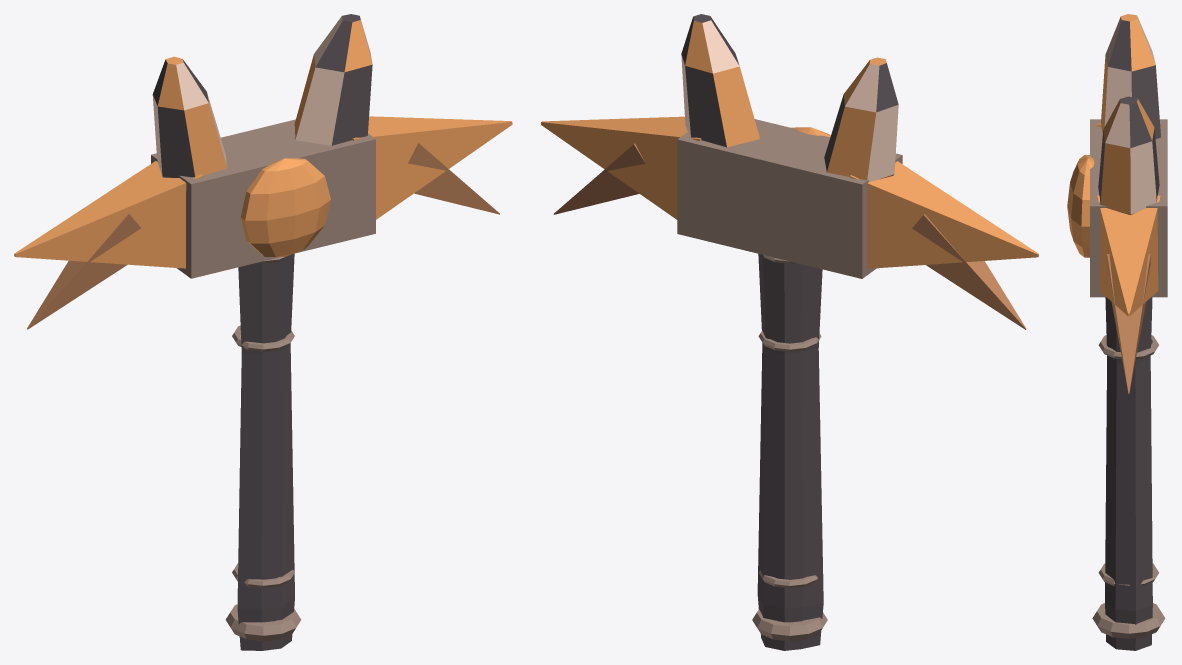
File: BH_PICK_P27_Picareta_Dragao_Mineral_V01.glb
The picture shows the model from 3 angles, left to right: view 1: azimuth 30°, elevation 25°; view 2: azimuth 150°, elevation 25°; view 3: azimuth 270°, elevation 25°; orthographic projection. The views are drawn at different scales.
Parts seen in each view (by area): view 1: Handle | shaped shaft.001, Head | main crossbar.001, Head | mining tooth L.001, Head | dragon horn 1.001, Head | mining tooth R.001, Core | socket gem.001, Head | dragon horn -1.001, Head | hooked spur -1.001, Head | hooked spur 1.001, Handle | pommel.001; view 2: Handle | shaped shaft.001, Head | main crossbar.001, Head | mining tooth L.001, Head | dragon horn 1.001, Head | mining tooth R.001, Head | dragon horn -1.001, Head | hooked spur -1.001, Head | hooked spur 1.001, Handle | pommel.001; view 3: Handle | shaped shaft.001, Head | dragon horn 1.001, Head | mining tooth R.001, Head | dragon horn -1.001, Head | main crossbar.001, Core | socket gem.001, Head | hooked spur 1.001, Handle | pommel.001, Handle | binding 3.001, Handle | binding 1.001.
Part boxes in pixels (x1,y1,x2,y2): Handle | shaped shaft.001: (237,253,294,650); Head | main crossbar.001: (151,119,375,278); Head | mining tooth L.001: (14,161,203,268); Head | dragon horn 1.001: (294,14,372,145); Head | mining tooth R.001: (352,116,512,219); Core | socket gem.001: (240,158,330,256); Head | dragon horn -1.001: (152,56,227,177); Head | hooked spur -1.001: (27,214,140,329); Head | hooked spur 1.001: (408,143,499,214); Handle | pommel.001: (225,604,301,641); Handle | shaped shaft.001: (757,254,823,650); Head | main crossbar.001: (677,119,902,278); Head | mining tooth L.001: (850,161,1038,268); Head | dragon horn 1.001: (681,14,759,147); Head | mining tooth R.001: (541,116,701,219); Head | dragon horn -1.001: (824,57,898,181); Head | hooked spur -1.001: (912,214,1026,329); Head | hooked spur 1.001: (553,143,645,214); Handle | pommel.001: (752,609,827,641); Handle | shaped shaft.001: (1105,297,1152,650); Head | dragon horn 1.001: (1098,96,1159,215); Head | mining tooth R.001: (1097,195,1160,316); Head | dragon horn -1.001: (1101,14,1160,138); Head | main crossbar.001: (1090,119,1167,297); Core | socket gem.001: (1067,155,1094,257); Head | hooked spur 1.001: (1107,254,1150,394); Handle | pommel.001: (1092,603,1165,638); Handle | binding 3.001: (1098,335,1158,359); Handle | binding 1.001: (1098,563,1158,586).
Size of the model in its own units: 2.42 by 2.8 by 0.44.
